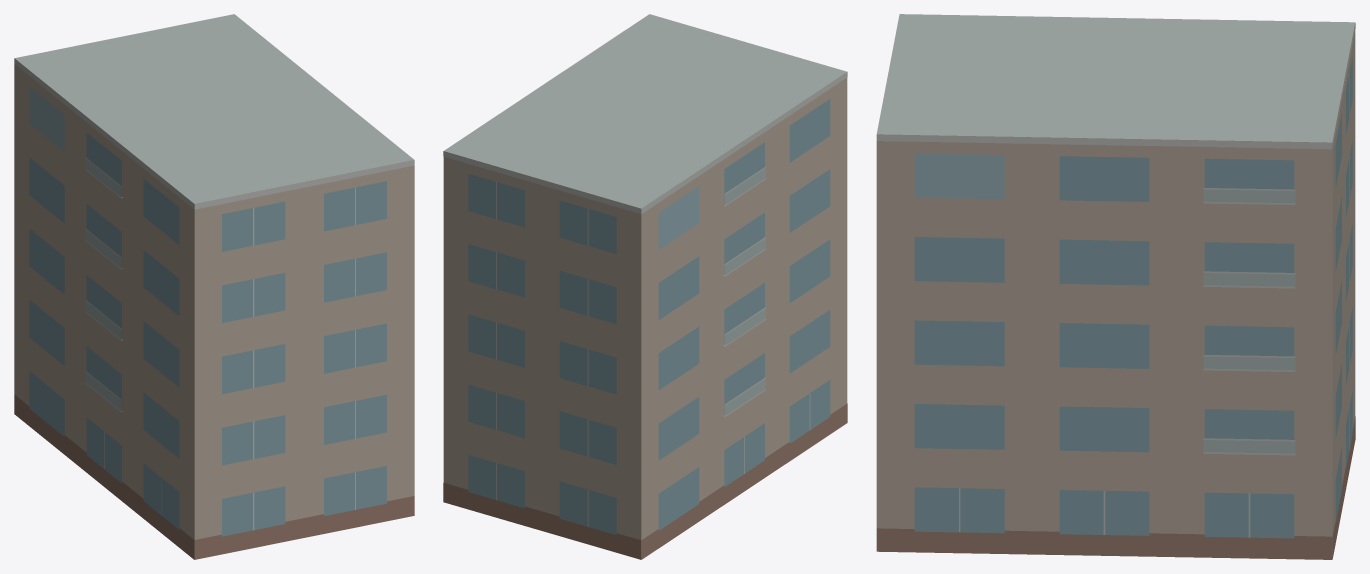
File: survey-upis-33013127.glb
3 views of the same model, side by side, from view 1: azimuth 30°, elevation 25°; view 2: azimuth 150°, elevation 25°; view 3: azimuth 270°, elevation 25° (orthographic). The views are drawn at different scales.
Visible parts, largest first — view 1: survey-upis-33013127.tmp; view 2: survey-upis-33013127.tmp; view 3: survey-upis-33013127.tmp.
Boxes of the visible parts, <box> form: survey-upis-33013127.tmp: <box>14,14,414,559</box>; survey-upis-33013127.tmp: <box>443,14,847,559</box>; survey-upis-33013127.tmp: <box>876,14,1355,559</box>.
Bounding box in the file's own units: 10.08 × 15.25 × 15.87.
